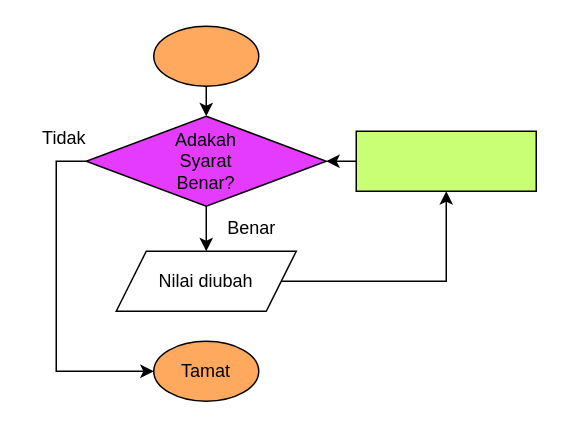
This 563x428 diagram has some shape labels left out. The shapes that lost their labels are listed below. From the top down, each one's box as (x1, y1, x2, y2) in pixels, then its label:
(152, 25, 259, 86): Mula
(355, 130, 536, 191): kemas kini nilai
